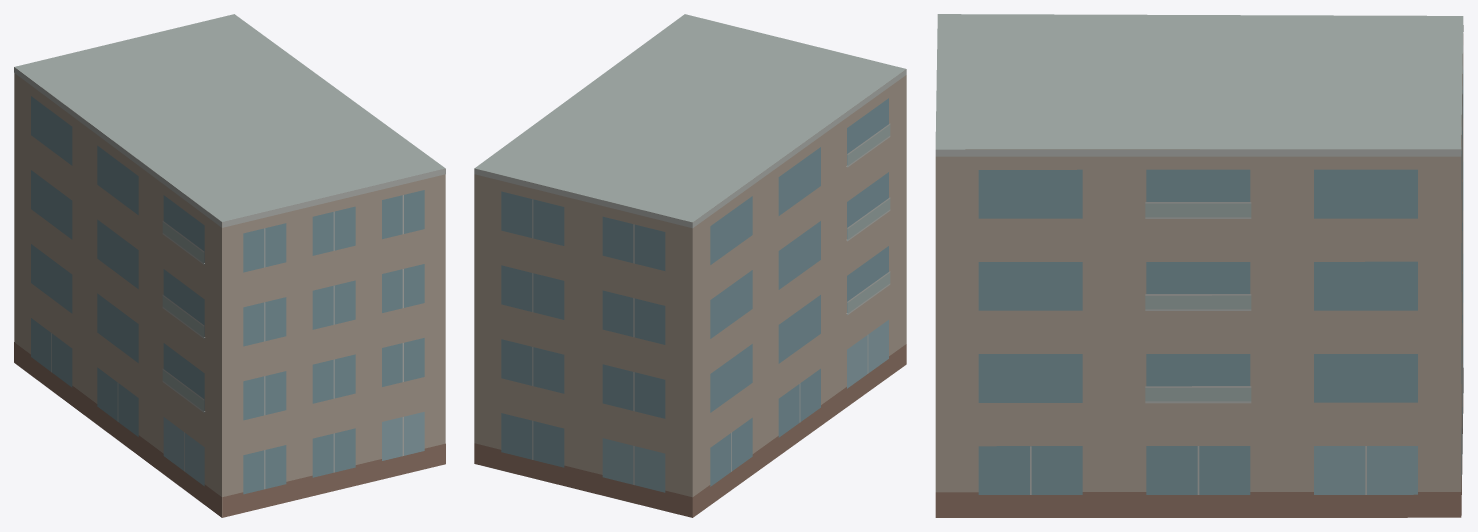
Rendered from survey-upis-32668802.glb.
3 views of the same model, side by side, from view 1: azimuth 30°, elevation 25°; view 2: azimuth 150°, elevation 25°; view 3: azimuth 270°, elevation 25° (orthographic). The views are drawn at different scales.
Parts seen in each view (by area): view 1: survey-upis-32668802.tmp; view 2: survey-upis-32668802.tmp; view 3: survey-upis-32668802.tmp.
Boxes of the visible parts, x1=… form: survey-upis-32668802.tmp: x1=14, y1=14, x2=445, y2=517; survey-upis-32668802.tmp: x1=474, y1=14, x2=906, y2=517; survey-upis-32668802.tmp: x1=935, y1=14, x2=1463, y2=517.
Bounding box in the file's own units: 9.88 × 12.45 × 16.18.
